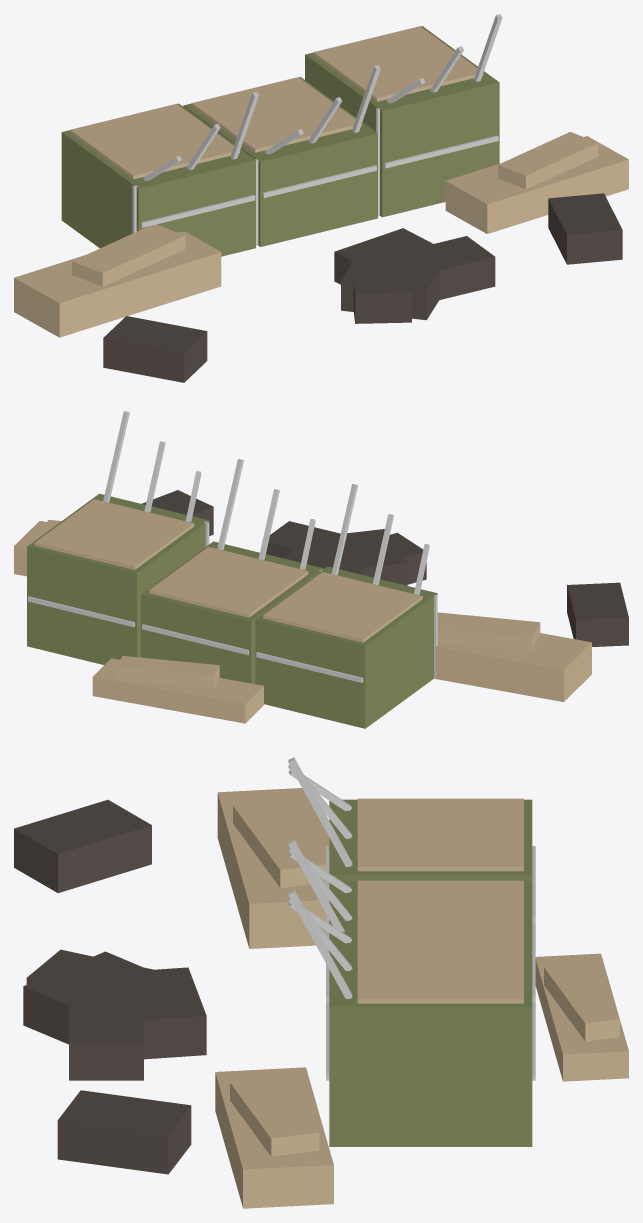
Rendered from SM_HescoCorto3_v0_MallaLimpia_e2_MuyDanado_LOD0.fbx.
3 renders of one model, top to bottom at view 1: azimuth 30°, elevation 25°; view 2: azimuth 150°, elevation 25°; view 3: azimuth 270°, elevation 25°, orthographic. The views are drawn at different scales.
Visible parts, largest first — view 1: SM_hesco_piezas_v82_LOD0; view 2: SM_hesco_piezas_v82_LOD0; view 3: SM_hesco_piezas_v82_LOD0.
Boxes of the visible parts, left/top/right/bottom form: SM_hesco_piezas_v82_LOD0: left=14, top=14, right=628, bottom=382; SM_hesco_piezas_v82_LOD0: left=14, top=411, right=628, bottom=728; SM_hesco_piezas_v82_LOD0: left=14, top=757, right=628, bottom=1208.
Bounding box in the file's own units: 5.36 × 1.64 × 3.7.
